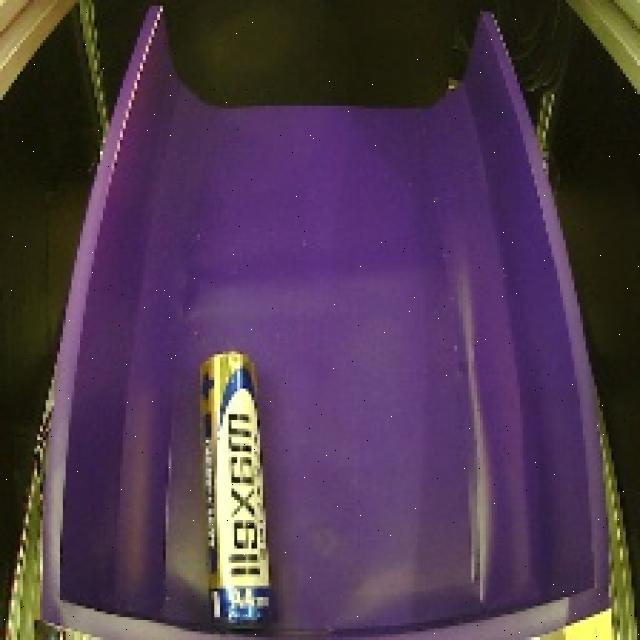battery: (193, 342, 278, 640)
